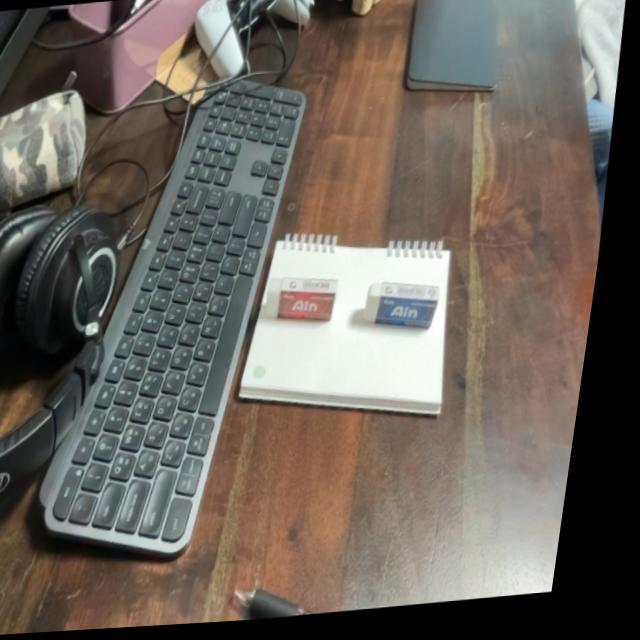blue: (368, 278, 454, 346)
red: (271, 270, 354, 337)
